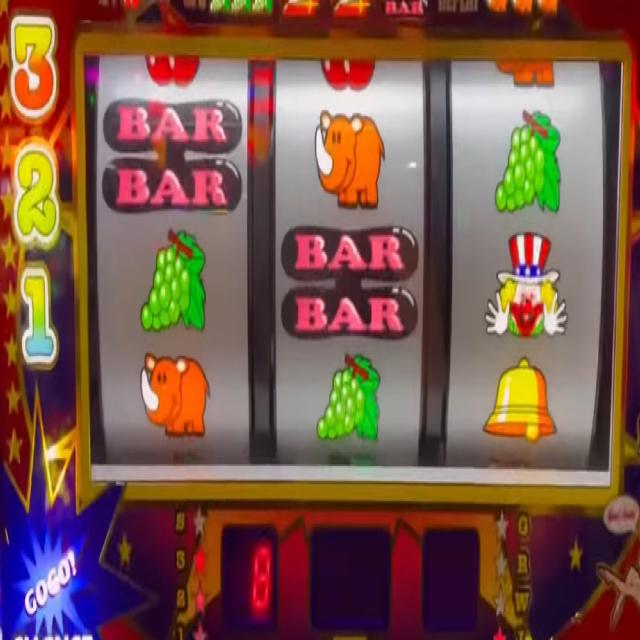bar: (102, 93, 239, 212), (282, 220, 418, 339)
bell: (482, 358, 556, 441)
cherry: (142, 48, 204, 85), (321, 58, 376, 88)
clown: (485, 232, 567, 345)
display: (83, 49, 613, 487)
elephant: (314, 112, 388, 209), (142, 356, 211, 437), (496, 53, 556, 90)
grape: (495, 109, 561, 218), (139, 229, 208, 331), (318, 351, 380, 444)
